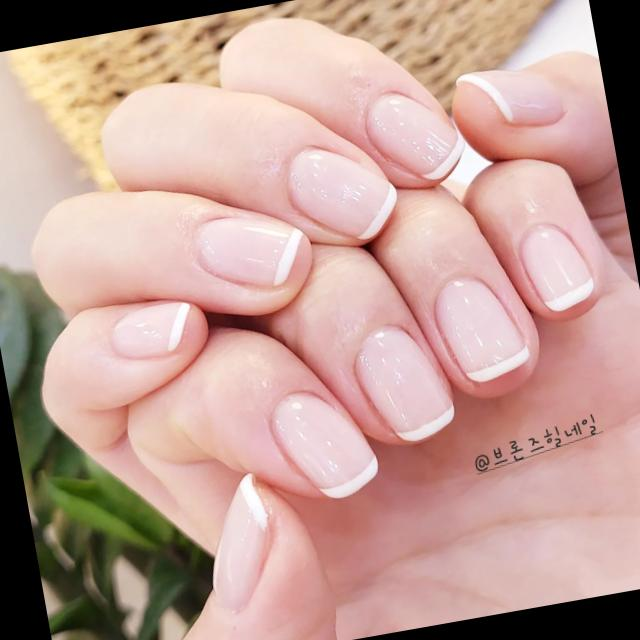Nail: (355, 325, 454, 441), (271, 392, 377, 498), (288, 147, 397, 239), (434, 277, 529, 382), (366, 92, 464, 180), (213, 473, 270, 612), (195, 217, 304, 286), (520, 225, 594, 312), (457, 69, 564, 125), (111, 301, 191, 358)
